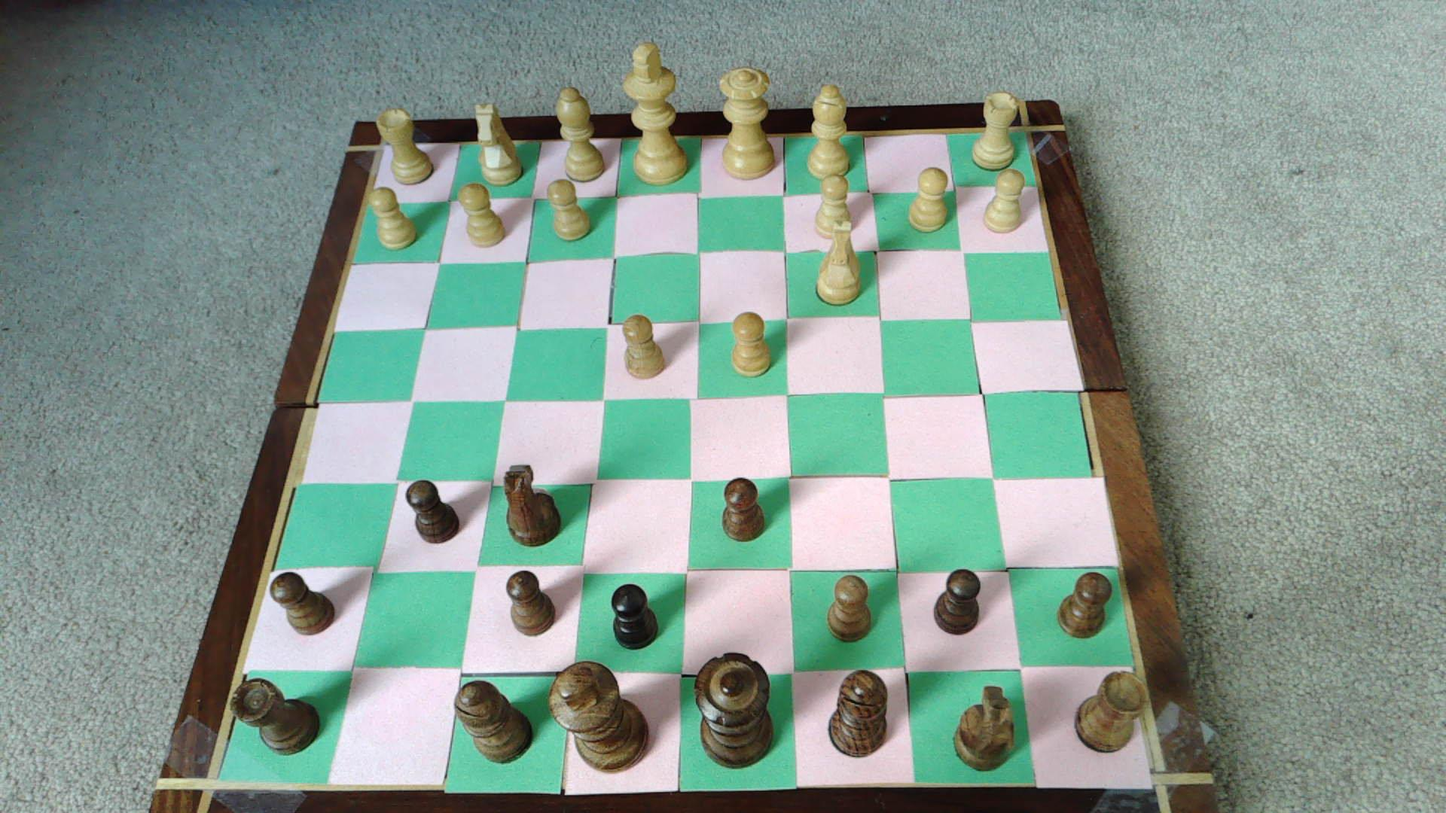dark_piece: (549, 661, 647, 770), (695, 653, 772, 766), (232, 679, 319, 753), (455, 680, 532, 762), (1075, 671, 1149, 752), (954, 685, 1014, 770), (829, 671, 886, 756), (503, 464, 560, 547), (270, 572, 335, 633), (1058, 572, 1111, 638), (406, 480, 459, 543), (506, 571, 555, 635), (612, 583, 659, 649), (934, 569, 980, 633), (827, 576, 871, 641), (722, 478, 765, 540)
white_piece: (622, 42, 689, 186), (720, 69, 777, 179), (554, 87, 605, 182), (377, 108, 435, 184), (807, 84, 851, 179), (474, 102, 523, 185), (972, 91, 1018, 170), (816, 229, 860, 304), (458, 184, 507, 247), (371, 187, 417, 250), (623, 314, 666, 378), (984, 169, 1025, 233), (731, 312, 772, 376), (548, 179, 590, 241), (908, 167, 948, 232), (814, 176, 852, 238)
